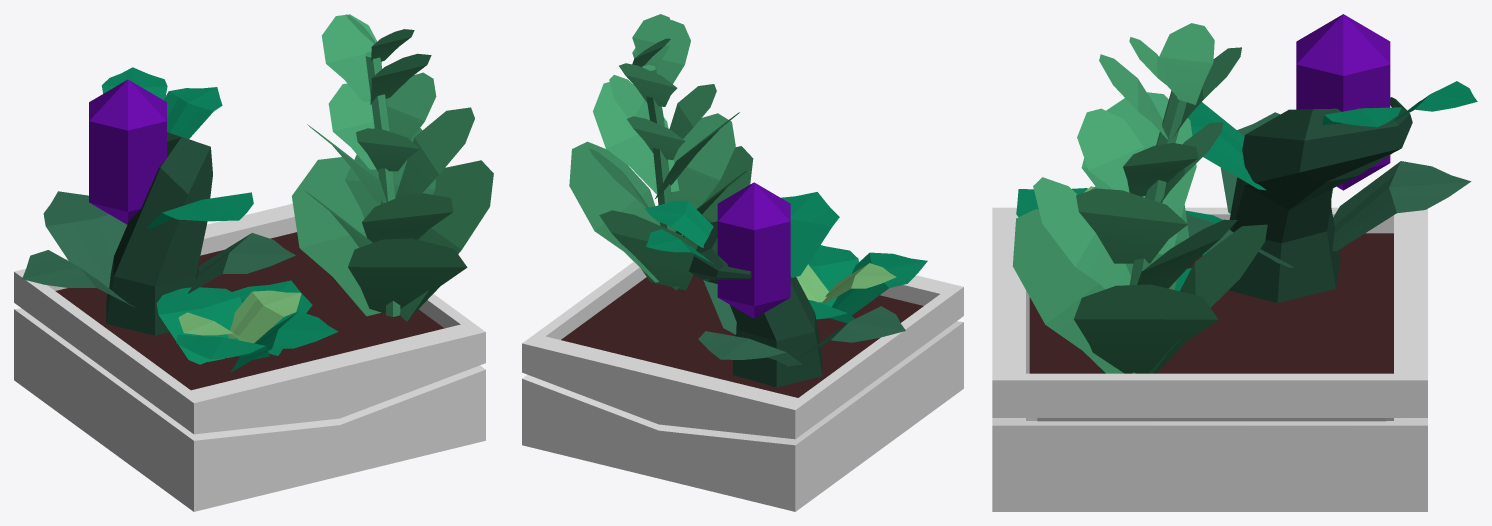
Rendered from Plant_farm_07.fbx.
3 views of the same model, side by side, from view 1: azimuth 30°, elevation 25°; view 2: azimuth 150°, elevation 25°; view 3: azimuth 270°, elevation 25° (orthographic). The views are drawn at different scales.
Parts seen in each view (by area): view 1: polySurface2419, polySurface2121, polySurface2120, polySurface2122, polySurface2379, polySurface2409, polySurface2380, polySurface2381, polySurface2383, polySurface2384, polySurface2382, polySurface2385 (+1 smaller); view 2: polySurface2121, polySurface2419, polySurface2120, polySurface2122, polySurface2380, polySurface2379, polySurface2409, polySurface2385, polySurface2381, polySurface2382, polySurface2384, polySurface2386 (+1 smaller); view 3: polySurface2419, polySurface2121, polySurface2120, polySurface2122, polySurface2379, polySurface2380, polySurface2381, polySurface2385, polySurface2123, polySurface2386, polySurface2384, polySurface2409 (+2 smaller).
Boxes of the visible parts, <box> form: polySurface2419: <box>292,14,493,321</box>; polySurface2121: <box>14,308,485,511</box>; polySurface2120: <box>14,203,485,434</box>; polySurface2122: <box>55,232,444,390</box>; polySurface2379: <box>106,132,212,335</box>; polySurface2409: <box>156,280,338,372</box>; polySurface2380: <box>89,79,166,224</box>; polySurface2381: <box>43,191,127,287</box>; polySurface2383: <box>188,233,295,293</box>; polySurface2384: <box>164,87,222,139</box>; polySurface2382: <box>22,250,134,307</box>; polySurface2385: <box>146,192,253,228</box>; polySurface2121: <box>522,321,963,511</box>; polySurface2419: <box>569,14,753,290</box>; polySurface2120: <box>522,261,963,439</box>; polySurface2122: <box>561,274,923,397</box>; polySurface2380: <box>717,182,790,318</box>; polySurface2379: <box>688,221,822,387</box>; polySurface2409: <box>796,245,927,323</box>; polySurface2385: <box>781,192,839,277</box>; polySurface2381: <box>698,331,802,366</box>; polySurface2382: <box>797,306,905,359</box>; polySurface2384: <box>644,200,713,247</box>; polySurface2386: <box>646,229,713,263</box>; polySurface2419: <box>1012,23,1267,373</box>; polySurface2121: <box>992,290,1427,511</box>; polySurface2120: <box>992,207,1427,417</box>; polySurface2122: <box>1029,233,1393,373</box>; polySurface2379: <box>1229,97,1412,303</box>; polySurface2380: <box>1296,14,1390,190</box>; polySurface2381: <box>1332,161,1471,251</box>; polySurface2385: <box>1187,102,1266,190</box>; polySurface2123: <box>1037,418,1386,421</box>; polySurface2386: <box>1387,81,1477,125</box>; polySurface2384: <box>1322,107,1401,127</box>; polySurface2409: <box>1016,186,1230,291</box>.
Bounding box in the file's own units: 2.15 × 1.89 × 1.83.
